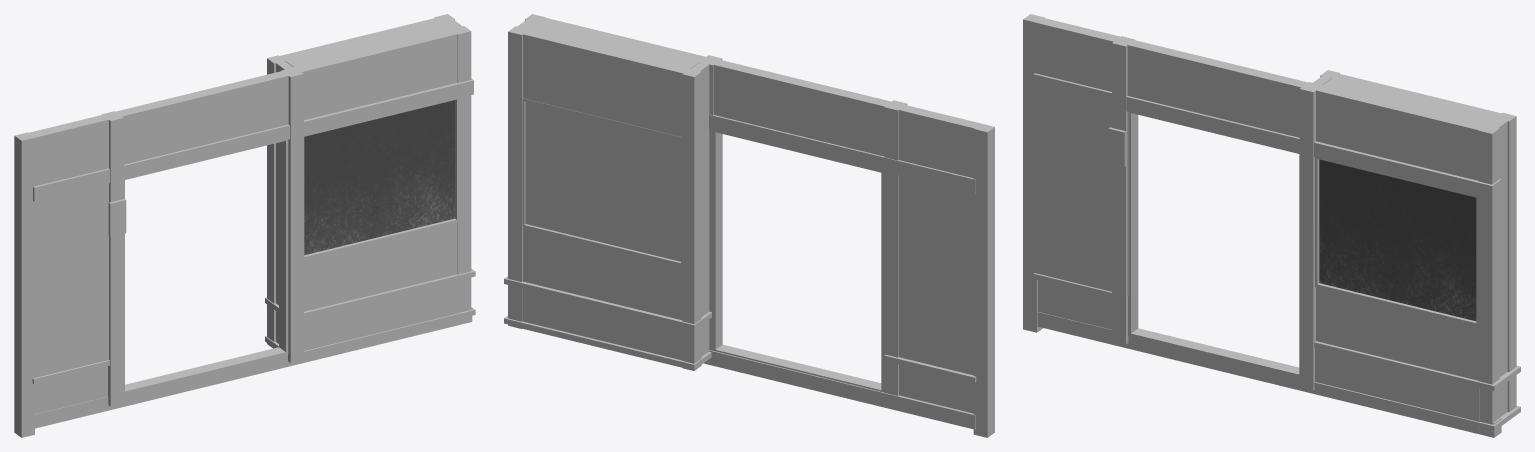
Rendered from shop_soba.fbx.
3 views of the same model, side by side, from view 1: azimuth 30°, elevation 25°; view 2: azimuth 150°, elevation 25°; view 3: azimuth 330°, elevation 25° (orthographic). The views are drawn at different scales.
Visible parts, largest first — view 1: shop_soba; view 2: shop_soba; view 3: shop_soba.
Part boxes in pixels (left/top/right/bottom): shop_soba: left=14, top=14, right=475, bottom=437; shop_soba: left=504, top=14, right=994, bottom=437; shop_soba: left=1023, top=14, right=1520, bottom=437.
Size of the model in its own units: 5.52 by 3.46 by 0.5931.
